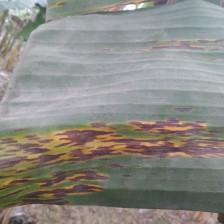sigatoka: (0, 0, 224, 212)
